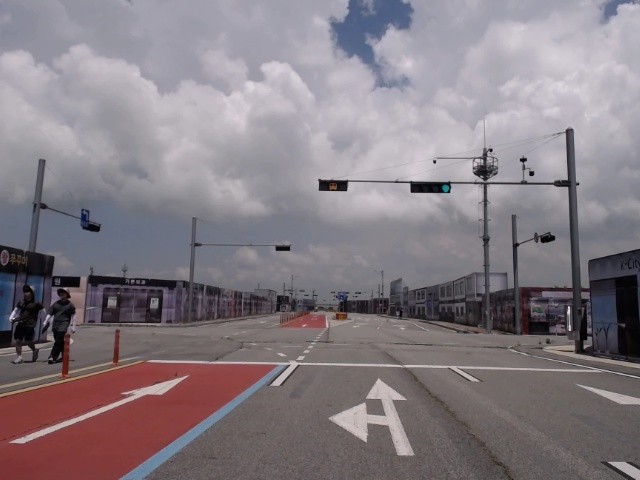straight_green_4: (411, 184, 451, 193)
